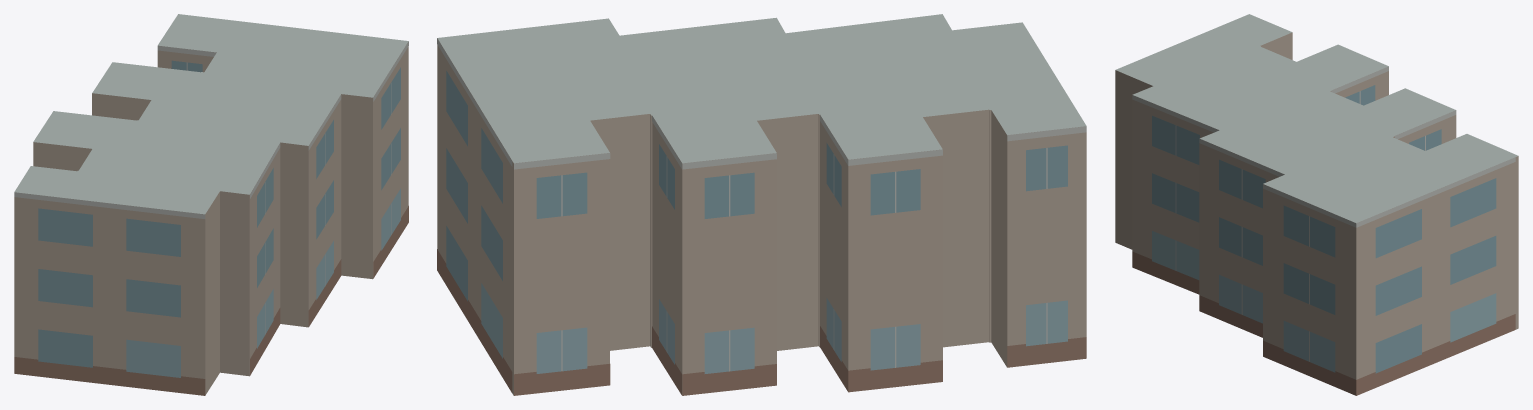
File: survey-upis-32472477.glb
3 views of the same model, side by side, from view 1: azimuth 30°, elevation 25°; view 2: azimuth 150°, elevation 25°; view 3: azimuth 270°, elevation 25° (orthographic). The views are drawn at different scales.
Visible parts, largest first — view 1: survey-upis-32472477.tmp; view 2: survey-upis-32472477.tmp; view 3: survey-upis-32472477.tmp.
Boxes of the visible parts, x1,y1,x2,y2 form: survey-upis-32472477.tmp: (14, 14, 408, 395); survey-upis-32472477.tmp: (437, 14, 1086, 395); survey-upis-32472477.tmp: (1115, 14, 1518, 395).
Size of the model in its own units: 23.79 by 9.15 by 19.39.
